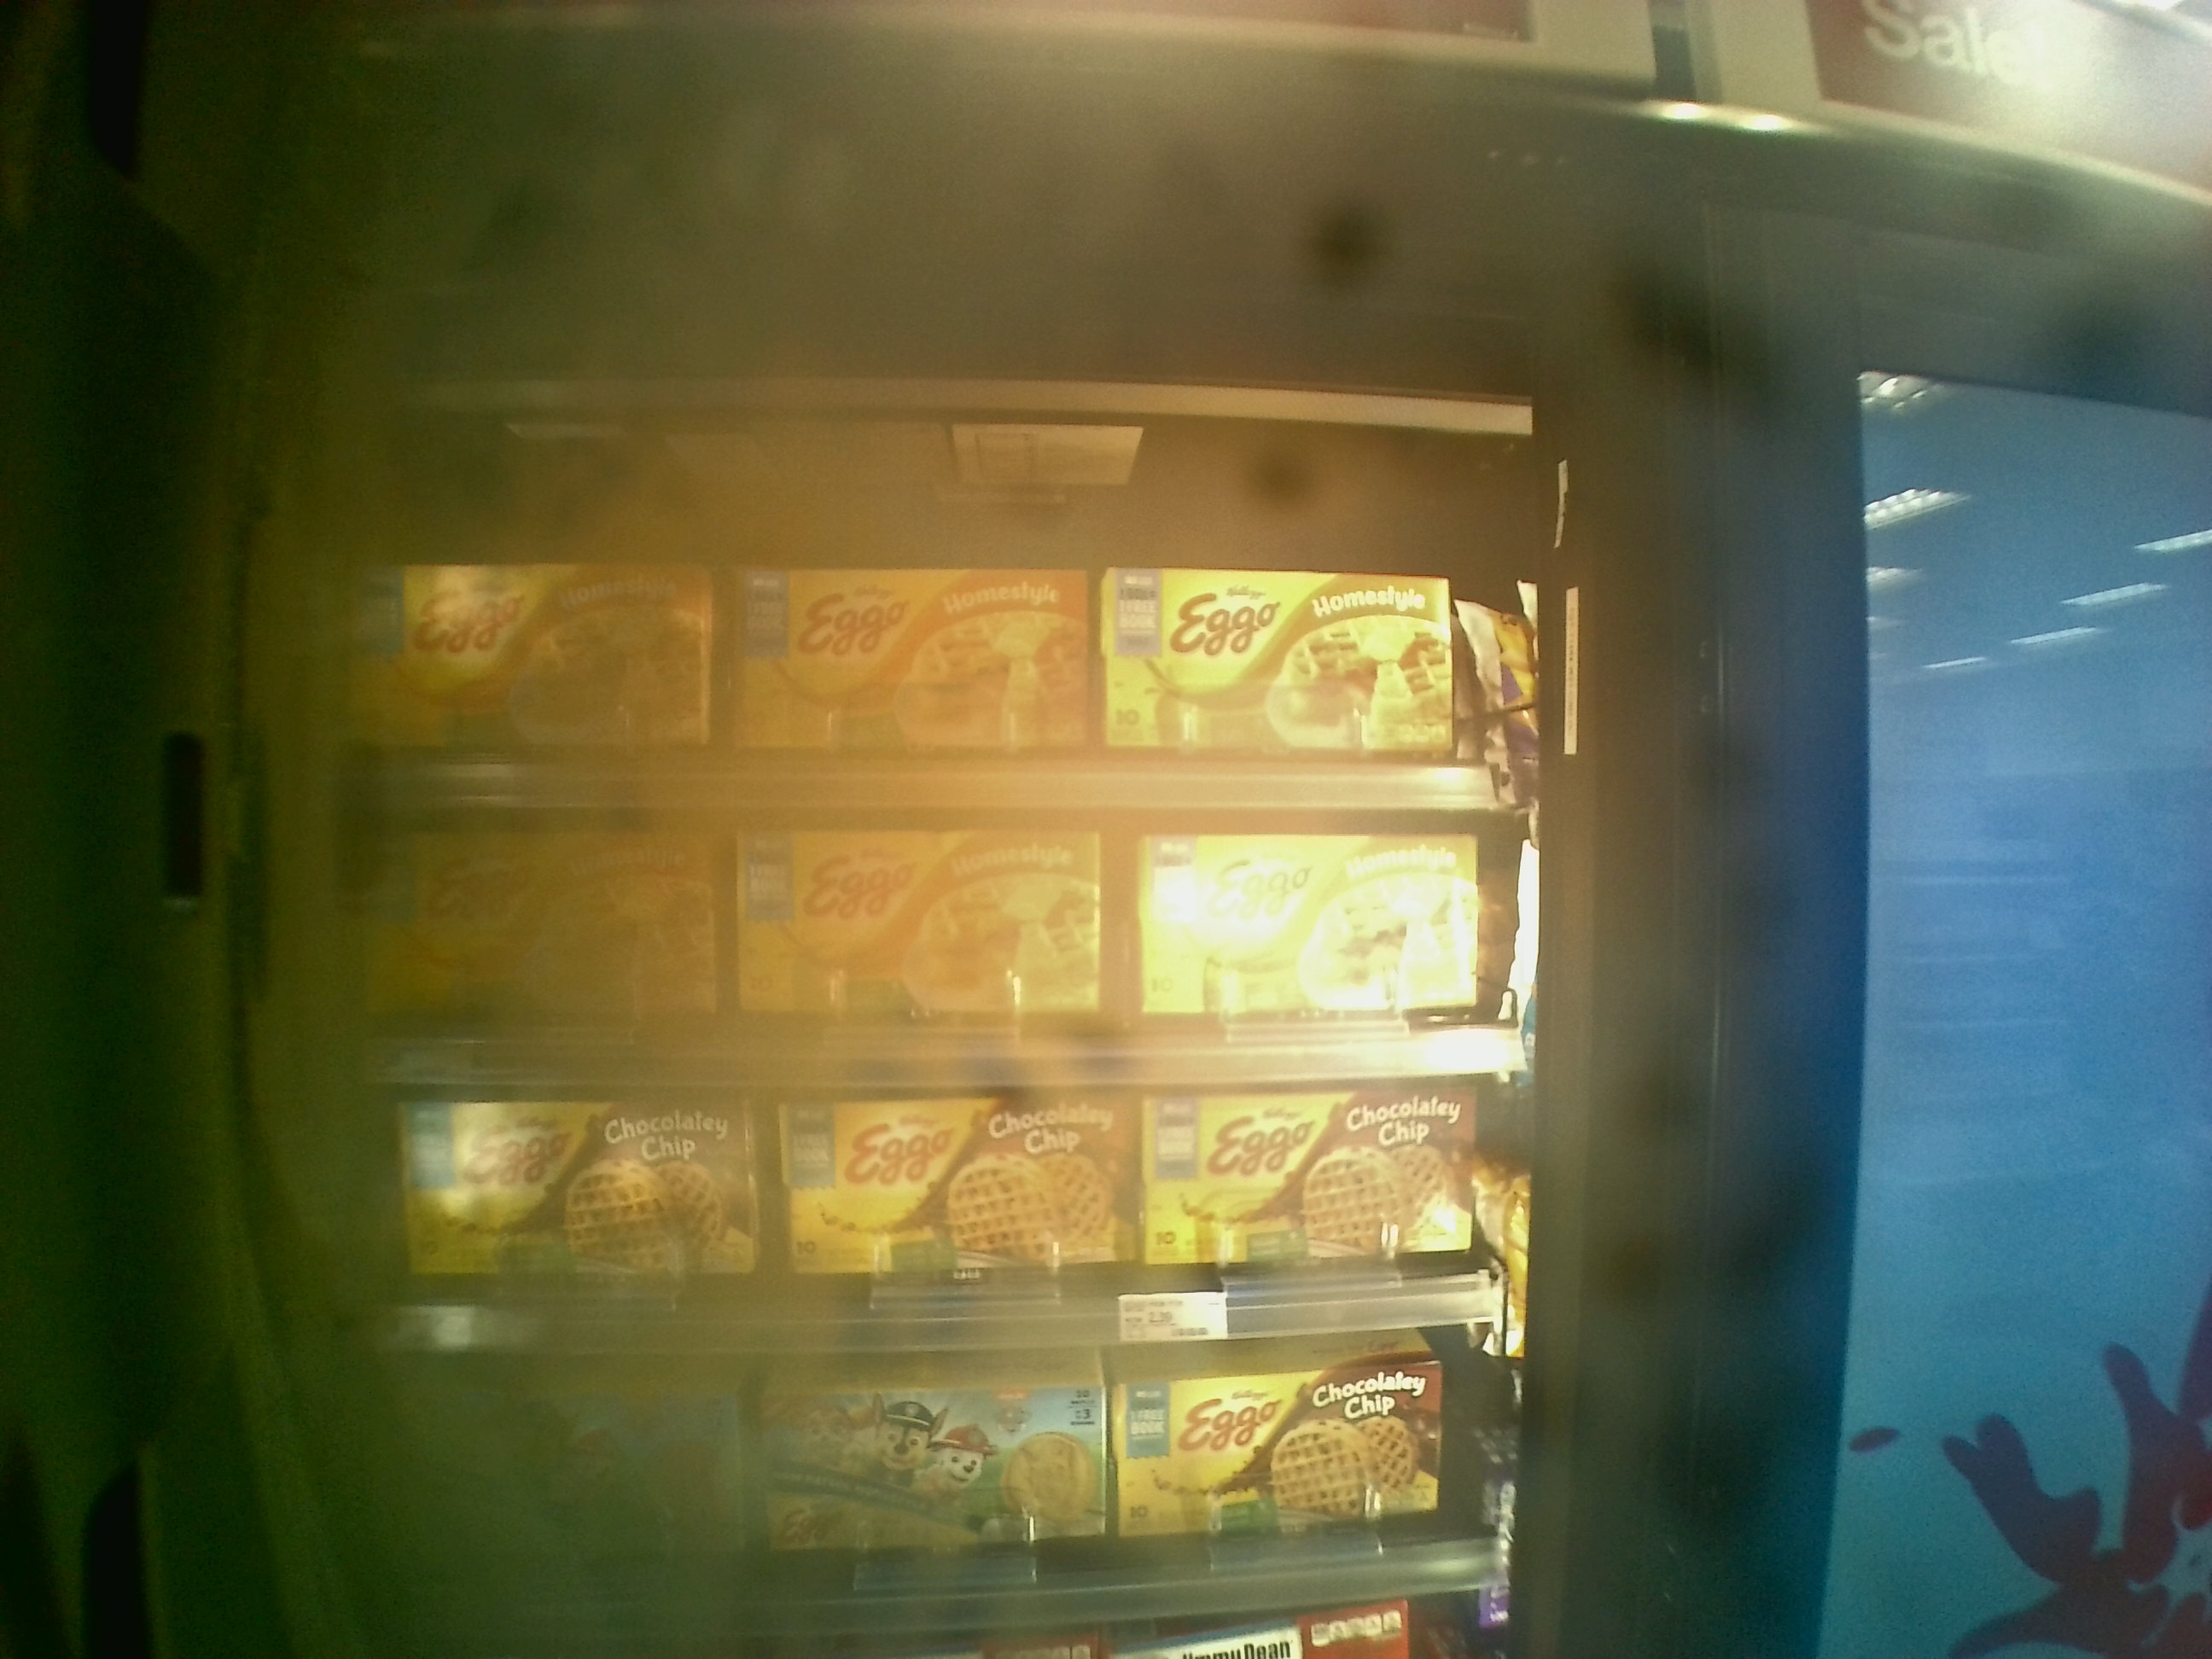shelf: (350, 380, 1521, 814), (380, 1065, 1510, 1354)
